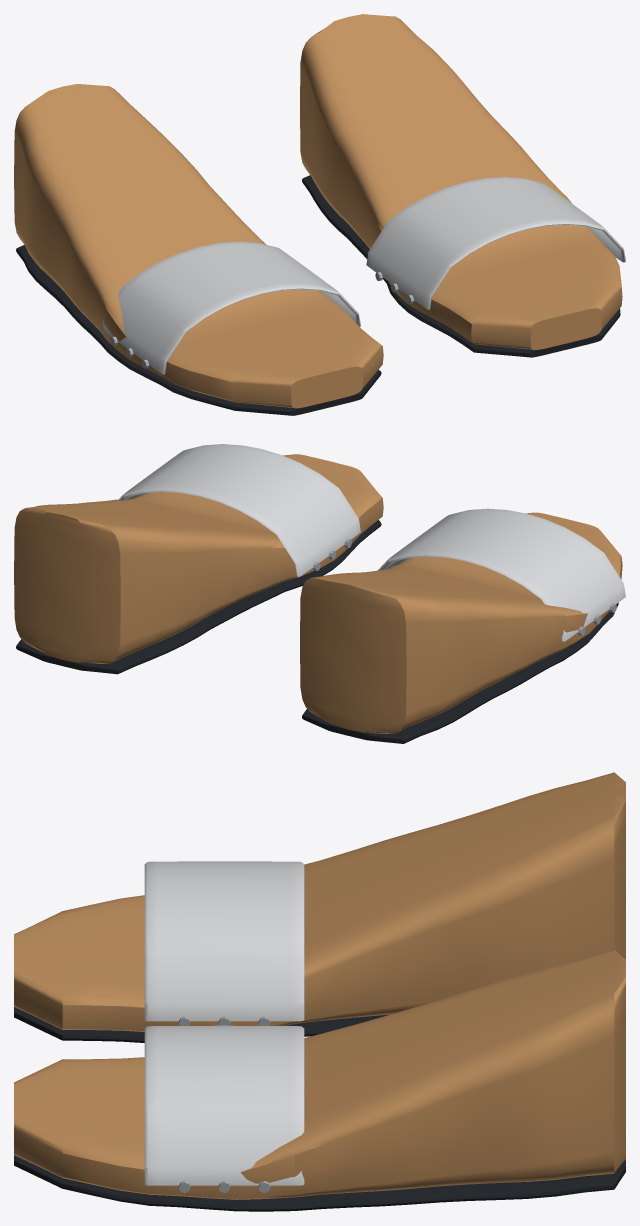
File: guoc_cao_vn.glb
3 views of the same model, one above another, from view 1: azimuth 30°, elevation 25°; view 2: azimuth 150°, elevation 25°; view 3: azimuth 270°, elevation 25° (orthographic). The views are drawn at different scales.
Parts seen in each view (by area): view 1: guoc_cao_vn; view 2: guoc_cao_vn; view 3: guoc_cao_vn.
Boxes of the visible parts, box(x1,y1,x2,y2) form: guoc_cao_vn: box(14, 14, 625, 415); guoc_cao_vn: box(14, 444, 625, 743); guoc_cao_vn: box(14, 772, 625, 1211).
Bounding box in the file's own units: 0.2378 × 0.073 × 0.2107.
